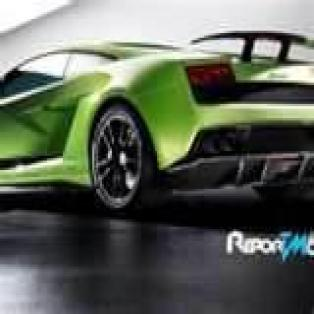Auto: (2, 33, 312, 215)
